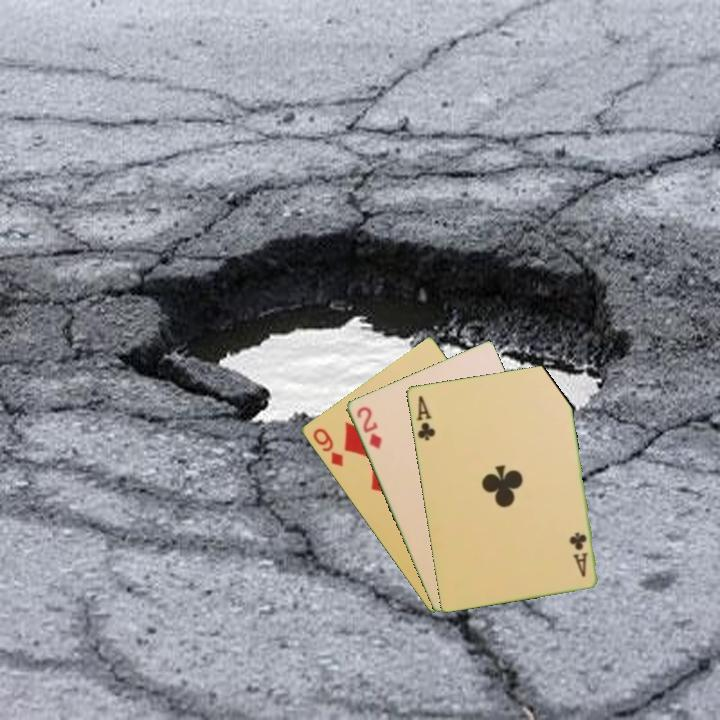2d: (353, 403, 384, 452)
9d: (309, 424, 346, 470)
Ac: (412, 392, 438, 443), (566, 528, 590, 580)
